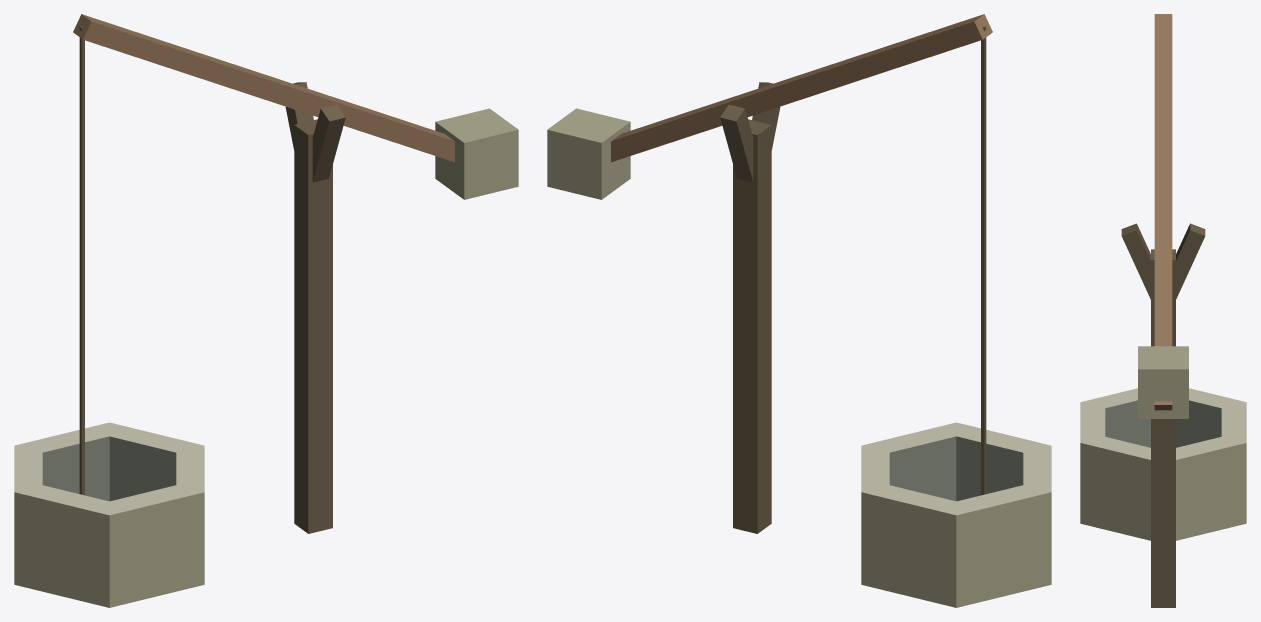
Rendered from ua_well_sweep.obj.
3 views of the same model, side by side, from view 1: azimuth 30°, elevation 25°; view 2: azimuth 150°, elevation 25°; view 3: azimuth 270°, elevation 25° (orthographic). The views are drawn at different scales.
Visible parts, largest first — view 1: ua_well_sweep; view 2: ua_well_sweep; view 3: ua_well_sweep.
Boxes of the visible parts, x1,y1,x2,y2 form: ua_well_sweep: [14, 14, 518, 607]; ua_well_sweep: [547, 14, 1051, 607]; ua_well_sweep: [1080, 14, 1246, 607].
Size of the model in its own units: 3.63 by 3.96 by 1.21.
